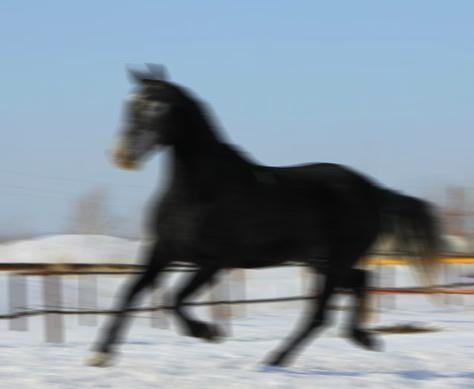horse: (86, 61, 452, 369)
